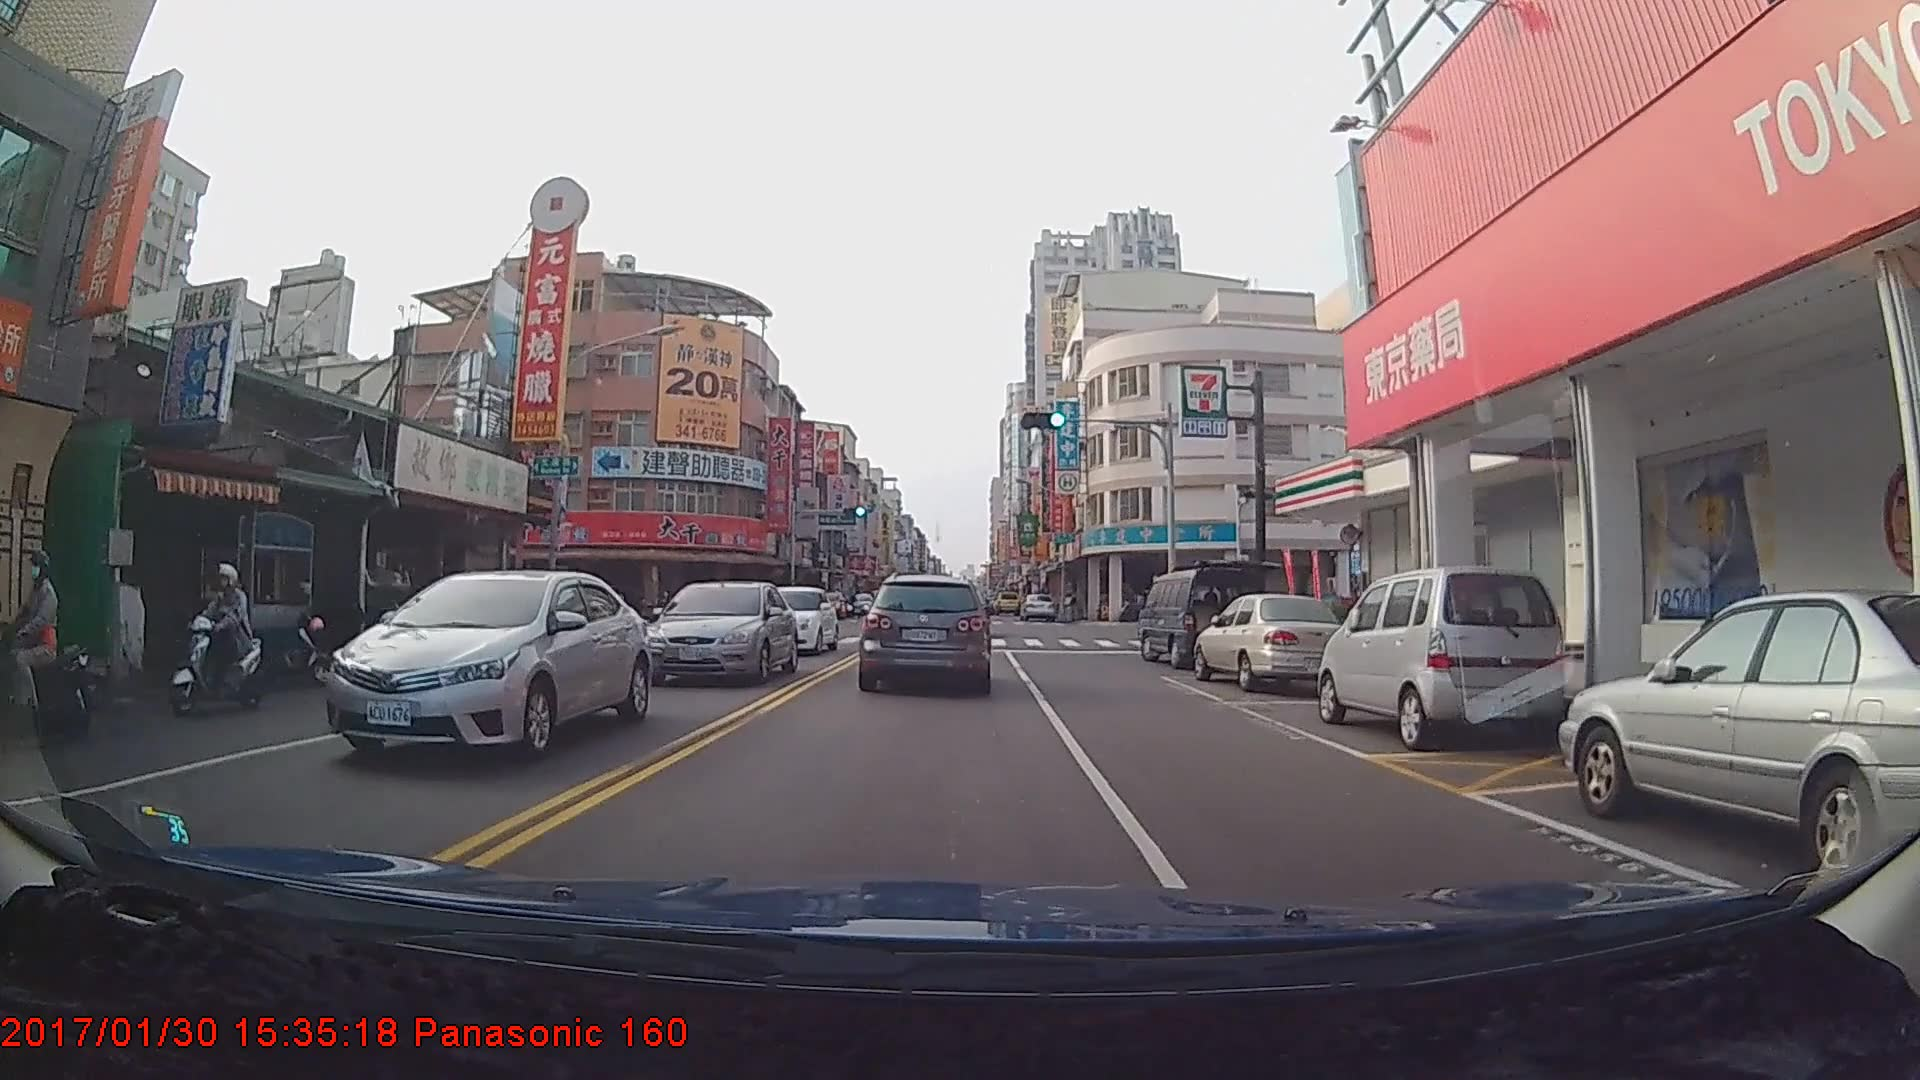rider: (1, 545, 99, 736), (163, 558, 273, 715)
vehicle: (1556, 590, 1920, 878), (318, 568, 660, 778), (1318, 565, 1560, 752), (639, 579, 799, 688), (860, 572, 990, 692), (1195, 593, 1342, 692), (1137, 569, 1267, 667), (751, 582, 840, 656), (1018, 592, 1057, 620), (993, 590, 1018, 613)
